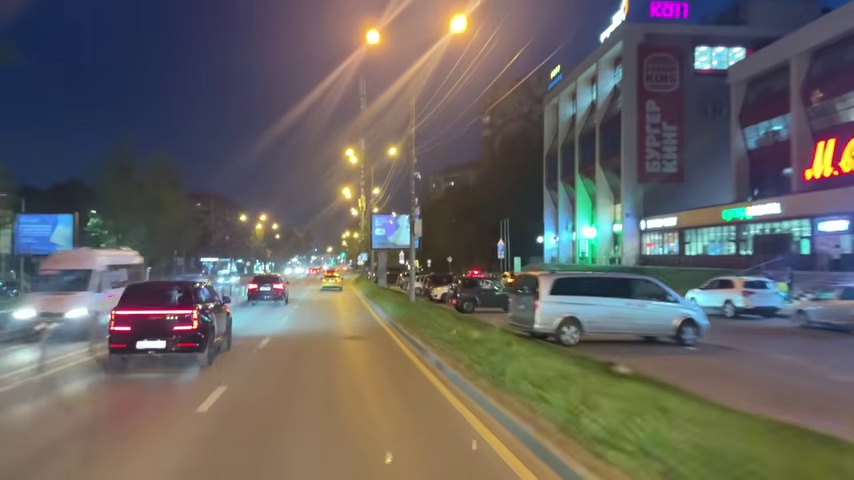acesa: (444, 8, 475, 41), (360, 23, 386, 51), (254, 213, 275, 238), (341, 145, 363, 168), (338, 184, 357, 203), (384, 142, 402, 160), (236, 211, 250, 227)
